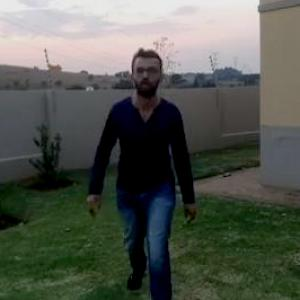follow: (102, 40, 190, 299)
